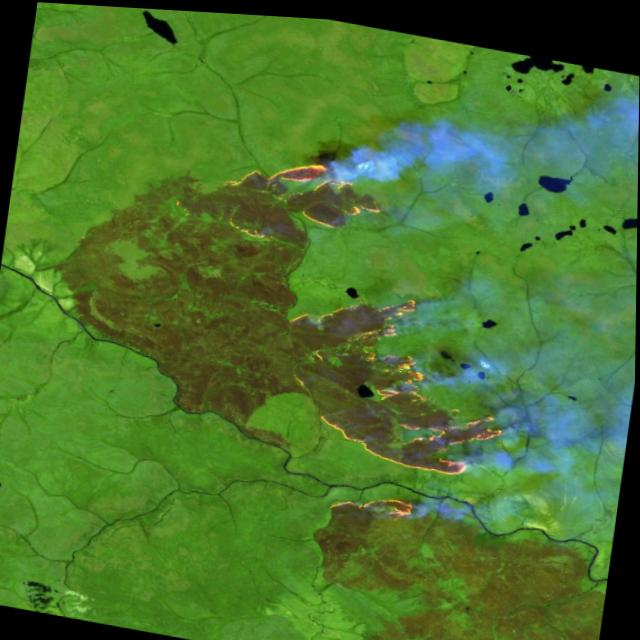fire: (168, 123, 555, 486), (320, 470, 436, 536)
